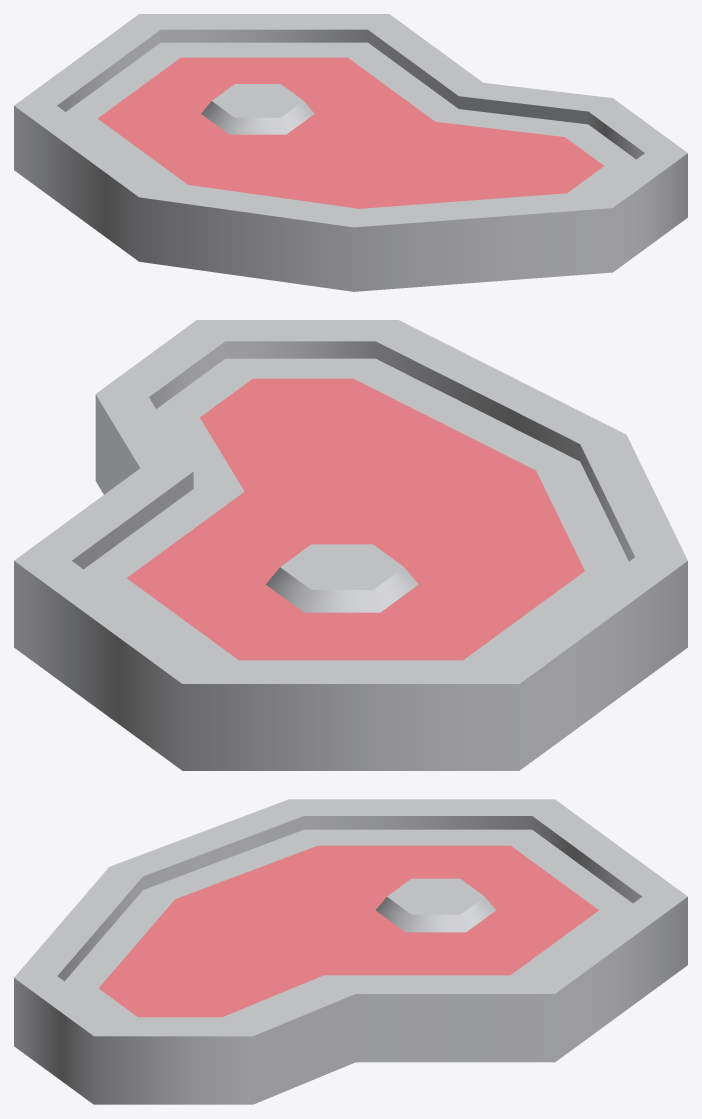
Rendered from Meat Raw.glb.
3 views of the same model, one above another, from view 1: azimuth 30°, elevation 25°; view 2: azimuth 150°, elevation 25°; view 3: azimuth 270°, elevation 25° (orthographic). The views are drawn at different scales.
Parts seen in each view (by area): view 1: Meat Raw; view 2: Meat Raw; view 3: Meat Raw.
Part boxes in pixels (x1,y1,x2,y2): Meat Raw: (14, 14, 687, 291); Meat Raw: (14, 320, 687, 770); Meat Raw: (14, 799, 687, 1104).
Size of the model in its own units: 0.4785 by 0.0645 by 0.5754.
